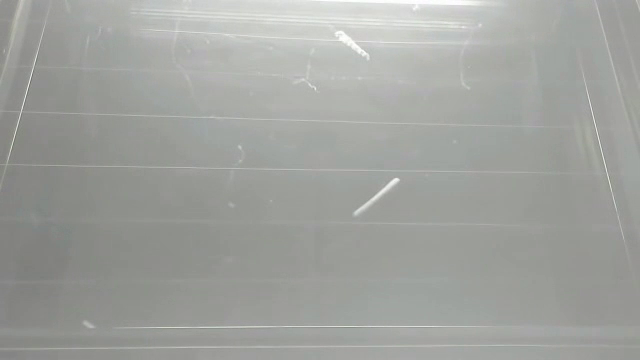alpha: (351, 173, 407, 222), (331, 28, 373, 64)
